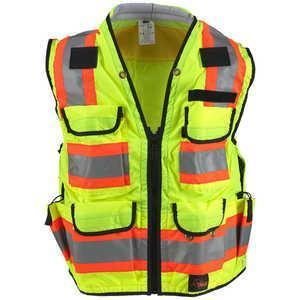vest: (43, 3, 257, 298)
